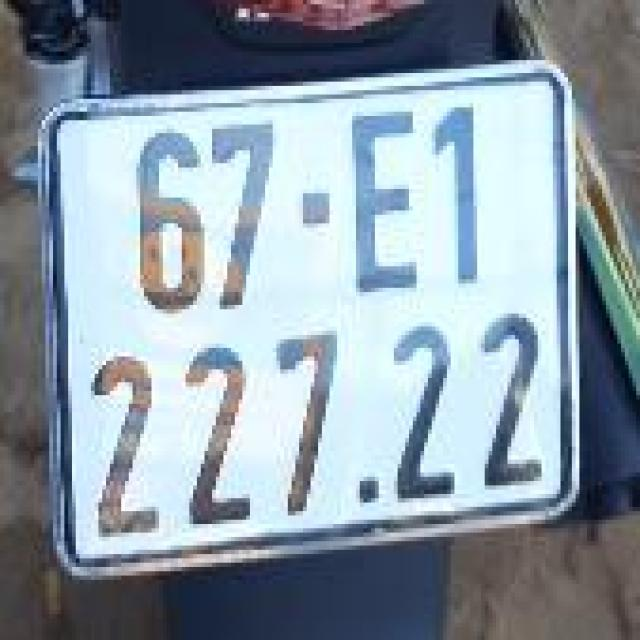1: (430, 92, 502, 298)
2: (364, 303, 469, 526), (468, 290, 570, 500), (72, 341, 170, 552), (174, 320, 265, 539)
6: (119, 112, 214, 322)
7: (197, 105, 292, 316), (267, 316, 354, 539)
E: (337, 99, 428, 305)
